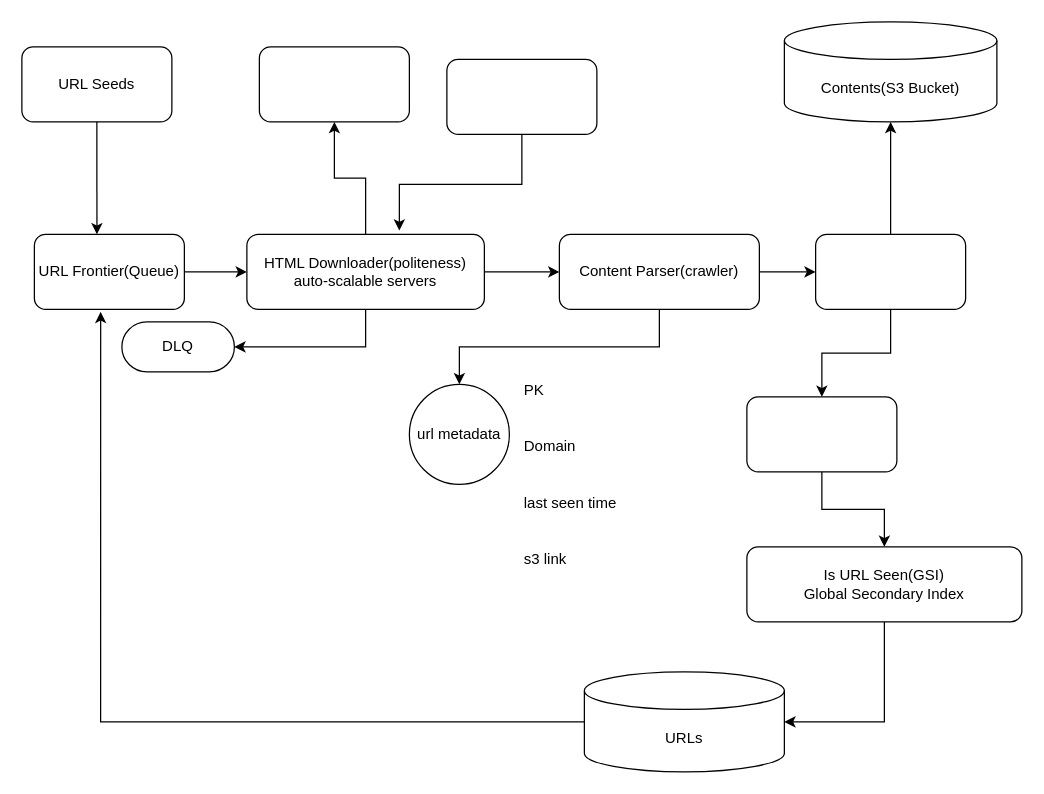
This 1044x794 diagram has some shape labels left out. The centre of each missing label's shape, as x and y in pixels:
DNS Resolver: pixel 333 84
Is Content Seen: pixel 890 271
URL Extractor: pixel 821 434
Web Pages: pixel 521 96
